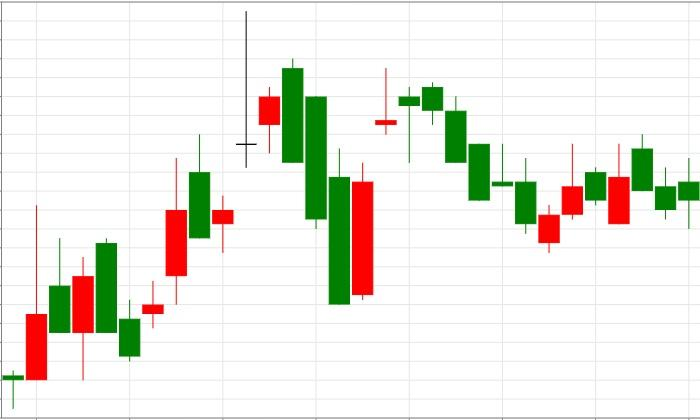bearish_engulfing_fall: (118, 11, 304, 361)
